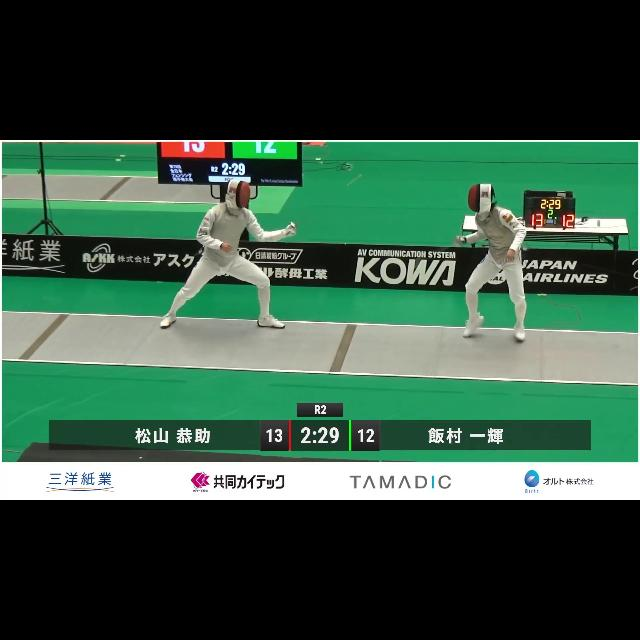blade: (288, 170, 366, 237), (406, 236, 469, 268)
